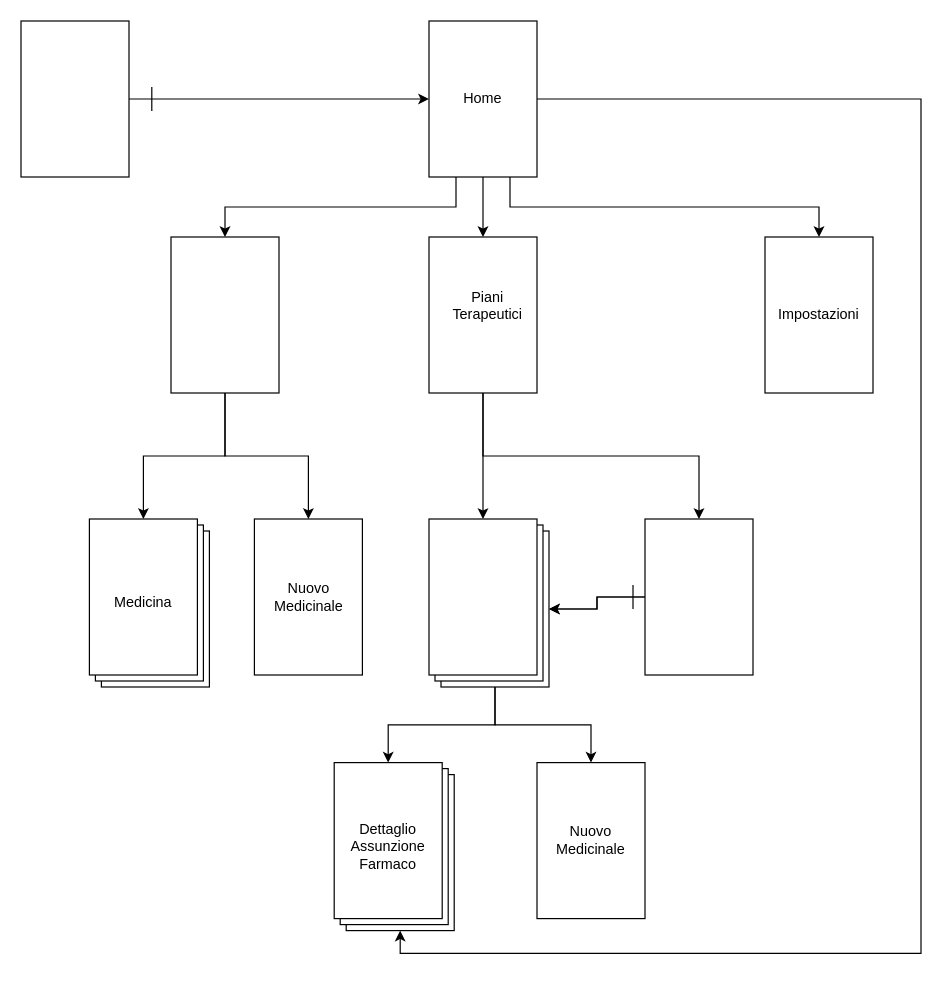
This 952x984 diagram has some shape labels left out. Here are the shapes that lost their labels. From the top down, the centre of each, then its label:
At point (74, 98): "Splash Screen".
At point (224, 314): "Armadietto Medicinali".
At point (482, 596): "Piano".
At point (698, 596): "Nuovo Piano".
